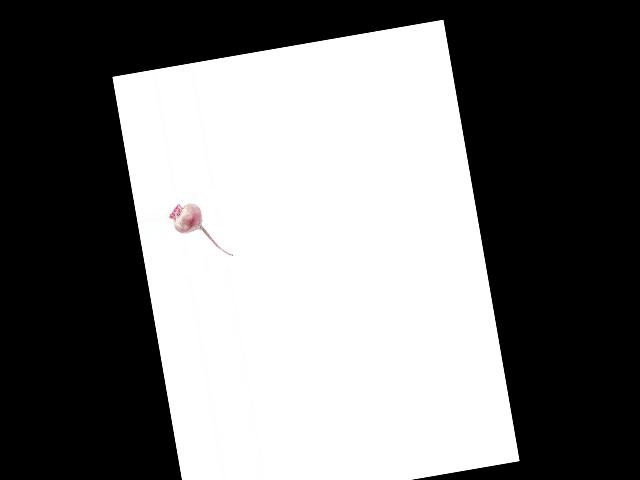beet: (167, 196, 233, 265)
